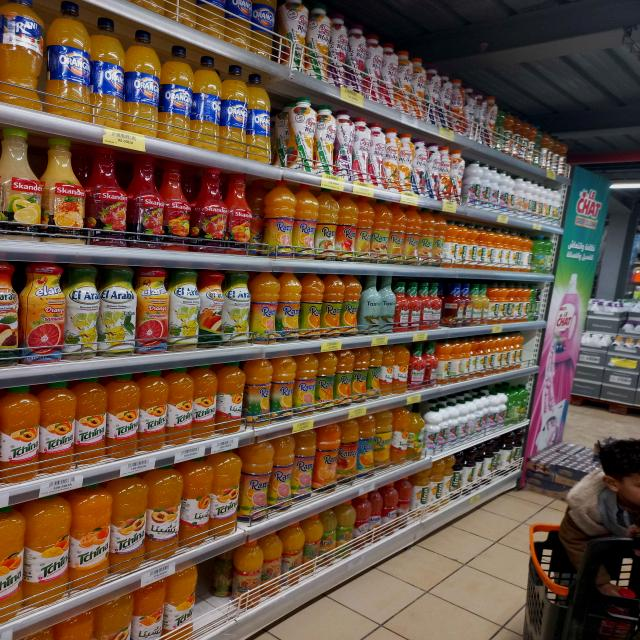El Arabi: (26, 262, 64, 361), (68, 263, 100, 352), (104, 265, 134, 355), (138, 267, 170, 350), (1, 261, 24, 365), (172, 268, 200, 350), (236, 549, 262, 609), (228, 272, 249, 343), (204, 270, 224, 344), (257, 537, 283, 593), (286, 528, 308, 586), (304, 518, 323, 574), (323, 512, 340, 572), (335, 503, 353, 555), (368, 492, 386, 544), (381, 485, 398, 537), (354, 496, 370, 547), (393, 477, 409, 528)
Ifruit: (462, 446, 478, 497), (480, 438, 496, 485), (432, 405, 449, 449), (498, 430, 514, 476), (424, 408, 440, 451), (488, 437, 504, 478), (538, 235, 554, 274), (436, 341, 450, 385), (453, 400, 468, 440), (512, 426, 523, 480), (530, 235, 546, 272), (445, 403, 459, 445), (444, 219, 456, 267), (470, 163, 483, 207), (469, 395, 484, 432), (449, 338, 462, 380), (432, 460, 442, 514), (444, 457, 455, 505), (416, 468, 426, 520), (467, 223, 479, 266), (488, 166, 500, 209), (486, 390, 499, 429), (479, 163, 490, 208), (472, 442, 483, 487), (476, 392, 488, 433), (454, 453, 464, 501), (522, 177, 534, 216), (456, 221, 466, 267), (514, 176, 525, 217), (464, 397, 475, 437), (483, 226, 494, 266), (496, 226, 506, 270), (479, 334, 489, 377), (486, 332, 496, 374), (523, 234, 534, 272), (496, 388, 506, 426), (490, 284, 500, 322), (516, 233, 526, 271), (503, 228, 512, 270), (478, 223, 486, 270), (502, 332, 512, 369), (495, 332, 504, 373), (469, 336, 478, 376), (532, 284, 542, 320), (509, 230, 518, 269), (514, 116, 522, 159), (552, 187, 562, 221), (537, 182, 547, 215), (500, 171, 508, 212), (506, 175, 514, 215), (543, 135, 552, 170), (518, 383, 526, 422), (516, 328, 524, 367), (498, 110, 506, 148), (528, 125, 536, 163), (505, 387, 513, 424), (530, 180, 538, 216), (513, 388, 521, 423), (499, 282, 506, 322), (506, 112, 513, 152), (508, 284, 515, 322), (515, 284, 522, 321), (544, 186, 552, 218), (462, 337, 468, 379), (512, 333, 518, 372), (522, 121, 528, 160), (523, 284, 529, 321), (554, 136, 560, 172), (536, 128, 541, 167), (529, 286, 534, 323), (561, 141, 565, 176), (559, 200, 559, 201)
Orange: (49, 1, 90, 115), (5, 2, 39, 106), (159, 41, 192, 142), (95, 16, 124, 125), (127, 34, 157, 135), (196, 55, 221, 151), (225, 63, 246, 156), (248, 76, 270, 158), (255, 0, 274, 60), (229, 0, 253, 46), (195, 0, 224, 37)
PET Ramy Orange 125L: (245, 359, 268, 424), (271, 356, 292, 417)
Pack Ramy Mangue 125 L: (319, 352, 333, 410), (368, 347, 382, 397)
Pack Ramy Orange 125L: (336, 348, 350, 407), (351, 349, 365, 397)
Pack Ramy Orange 2L: (302, 271, 321, 338), (320, 273, 340, 335), (338, 274, 358, 333)
Pet Ramy Orange 2L: (357, 415, 375, 477), (374, 412, 390, 465)
Pet Ramy Orange peche 2l: (340, 422, 360, 482), (375, 202, 389, 266), (422, 208, 431, 266), (435, 211, 444, 268)
Pet Ramy agrumes 2L: (262, 179, 295, 261), (241, 442, 269, 518), (251, 271, 276, 342), (279, 272, 300, 340), (273, 436, 292, 507), (296, 184, 314, 258), (293, 433, 313, 497)
Ramy Milky Mangue 1L: (290, 97, 314, 175), (316, 106, 333, 176)
Ramy Milky Mangue 2L: (282, 2, 307, 68), (312, 5, 330, 82)
Ramy milky fraise 1L: (371, 122, 386, 186), (355, 115, 368, 182)
Ramy milky fraise framboise 1L: (336, 110, 352, 182)
Ramy milky fraise framboise 2L: (348, 23, 366, 87), (334, 14, 346, 89)
Ramy milky framboise 1L: (414, 139, 430, 195), (428, 144, 440, 196)
Ramy milky framboise 2L: (469, 88, 486, 144), (426, 65, 438, 123), (438, 74, 449, 126)
Taster: (360, 271, 379, 335), (382, 271, 393, 331)
pet ramy agrumes 125L: (294, 354, 316, 414)
pet ramy orange abricot 2L: (316, 423, 339, 493)
pet ramy peche pomme poire 2L: (317, 190, 334, 260), (339, 196, 352, 261), (359, 199, 371, 265), (389, 205, 402, 263), (406, 207, 419, 265)
ramy milky 2L fraise: (382, 44, 396, 108), (368, 38, 379, 100)
ramy milky peche 1L: (382, 128, 400, 187), (397, 134, 413, 192), (448, 151, 463, 204), (441, 148, 453, 198), (488, 98, 496, 150)
ramy milky peche 2L: (452, 79, 468, 134), (398, 50, 410, 114), (412, 57, 424, 118)
skander: (44, 136, 84, 242), (2, 126, 40, 231), (84, 147, 125, 235), (130, 160, 162, 244), (196, 169, 227, 248), (162, 162, 188, 248), (230, 175, 253, 252), (396, 277, 412, 332), (427, 282, 443, 327), (411, 404, 424, 459), (418, 279, 432, 330), (408, 344, 424, 386), (419, 342, 436, 381), (406, 283, 420, 329)
tchina: (27, 503, 68, 604), (1, 388, 42, 478), (67, 494, 107, 581), (109, 479, 144, 568), (44, 385, 72, 476), (209, 447, 238, 532), (80, 381, 108, 462), (1, 509, 22, 610), (153, 469, 177, 557), (112, 378, 140, 453), (184, 461, 209, 542), (168, 372, 193, 444), (168, 573, 192, 639), (220, 364, 242, 432), (143, 374, 164, 443), (196, 369, 217, 438), (139, 590, 160, 640), (100, 607, 129, 640), (393, 408, 408, 461), (392, 344, 407, 394), (384, 346, 396, 394)
